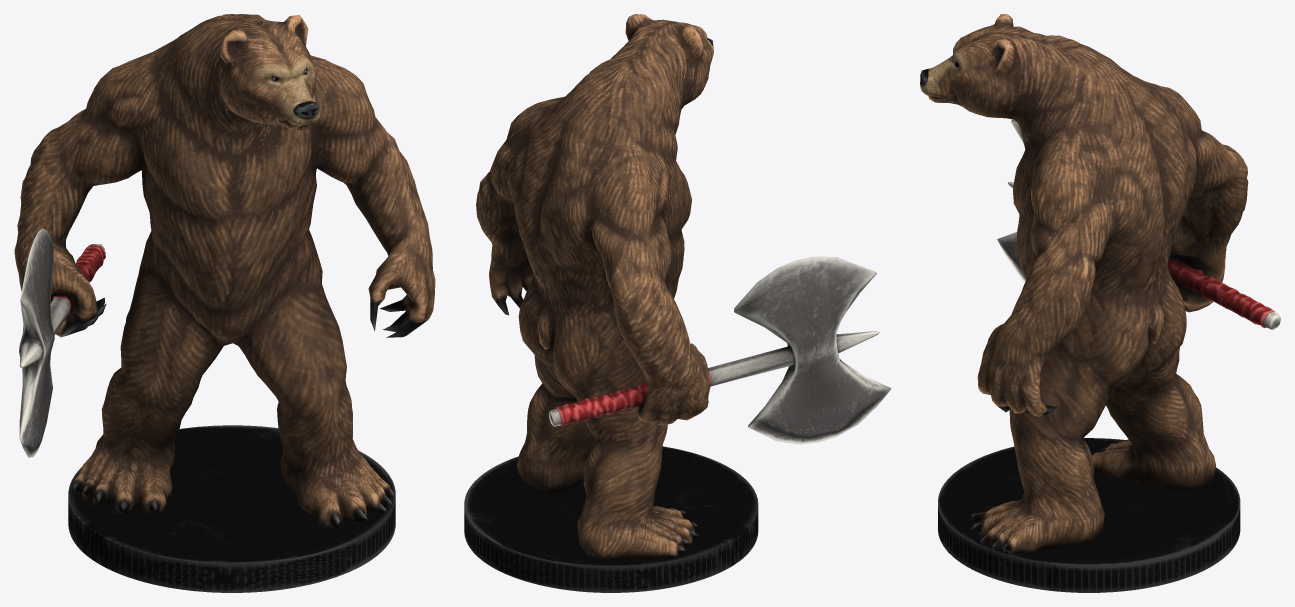
File: MZ4250 - Werebear.glb
3 views of the same model, side by side, from view 1: azimuth 30°, elevation 25°; view 2: azimuth 150°, elevation 25°; view 3: azimuth 270°, elevation 25° (orthographic). The views are drawn at different scales.
Visible parts, largest first — view 1: bear_low.001, base_low.001, axe_low.001; view 2: bear_low.001, base_low.001, axe_low.001; view 3: bear_low.001, base_low.001, axe_low.001.
Boxes of the visible parts, box(x1,y1,x2,y2) form: bear_low.001: box(14, 14, 435, 527); base_low.001: box(68, 425, 395, 592); axe_low.001: box(19, 228, 105, 457); bear_low.001: box(476, 14, 713, 560); base_low.001: box(464, 446, 758, 592); axe_low.001: box(548, 256, 891, 444); bear_low.001: box(920, 14, 1248, 553); base_low.001: box(938, 438, 1240, 592); axe_low.001: box(997, 119, 1280, 329).
Bounding box in the file's own units: 1.66 × 2 × 1.32.
Materials: 1 (1 with a texture image).
